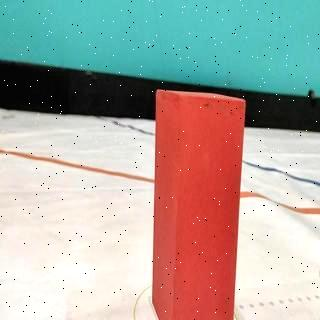redbox: (151, 87, 247, 320)
